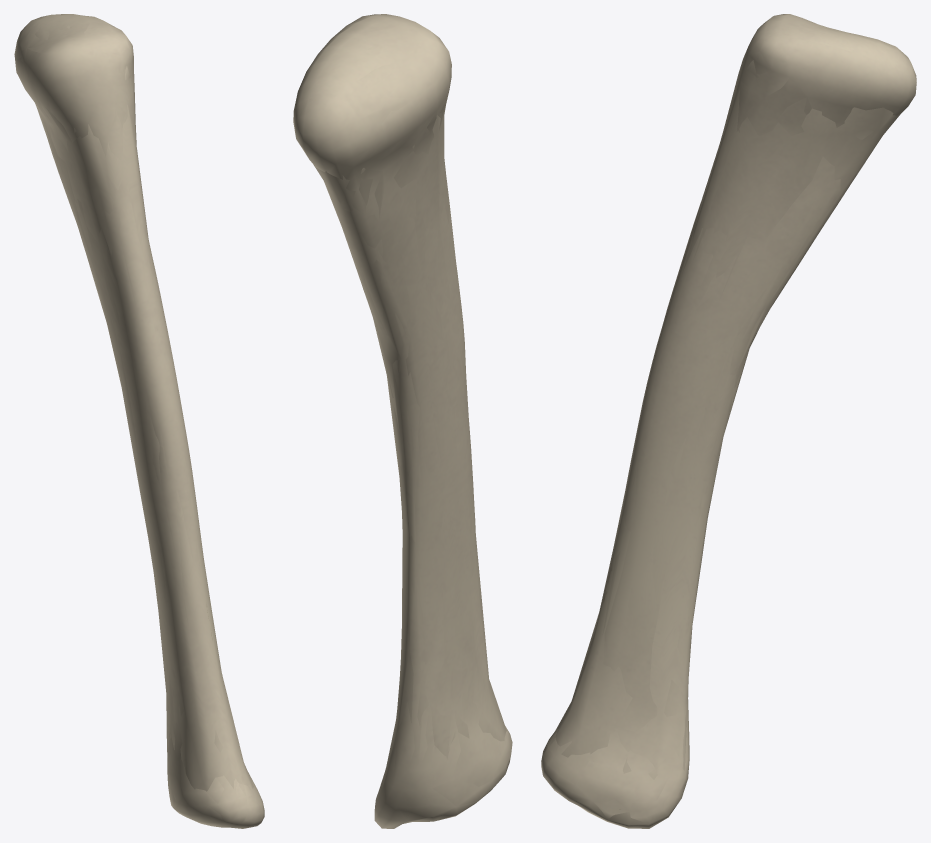
The model's file is L metacarpi tertium.fbx.
3 renders of one model, left to right at view 1: azimuth 30°, elevation 25°; view 2: azimuth 150°, elevation 25°; view 3: azimuth 270°, elevation 25°, orthographic. The views are drawn at different scales.
Parts seen in each view (by area): view 1: L metacarpi tertium, L metacarpi tertium low, L metacarpi tertium high; view 2: L metacarpi tertium, L metacarpi tertium low, L metacarpi tertium high; view 3: L metacarpi tertium, L metacarpi tertium low, L metacarpi tertium high.
Part boxes in pixels (x1=…): L metacarpi tertium: x1=14, y1=14, x2=264, y2=828; L metacarpi tertium low: x1=35, y1=25, x2=253, y2=791; L metacarpi tertium high: x1=16, y1=14, x2=264, y2=827; L metacarpi tertium: x1=293, y1=14, x2=512, y2=828; L metacarpi tertium low: x1=314, y1=45, x2=506, y2=787; L metacarpi tertium high: x1=293, y1=15, x2=510, y2=827; L metacarpi tertium: x1=541, y1=14, x2=916, y2=828; L metacarpi tertium low: x1=554, y1=27, x2=901, y2=809; L metacarpi tertium high: x1=541, y1=14, x2=916, y2=827.
Bounding box in the file's own units: 2.25 × 12.46 × 5.53.
